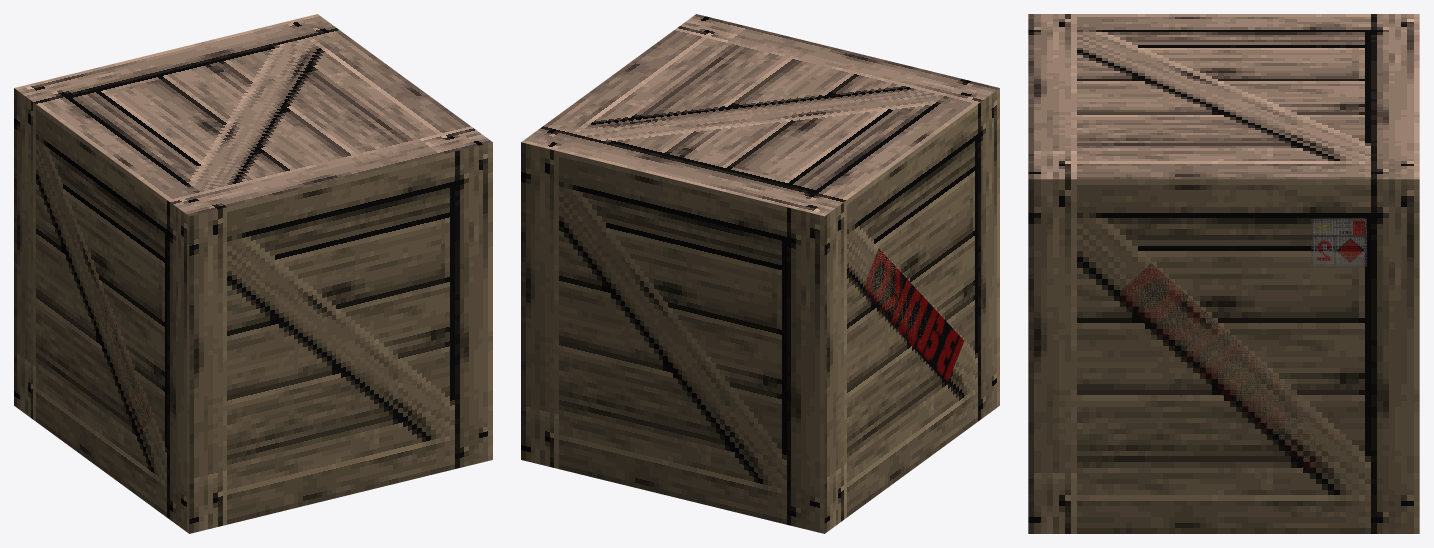
File: primary_064.glb
3 renders of one model, left to right at view 1: azimuth 30°, elevation 25°; view 2: azimuth 150°, elevation 25°; view 3: azimuth 270°, elevation 25°, orthographic. The views are drawn at different scales.
Visible parts, largest first — view 1: Object; view 2: Object; view 3: Object.
Boxes of the visible parts, x1,y1,x2,y2 form: Object: [14, 14, 492, 533]; Object: [521, 14, 999, 533]; Object: [1028, 14, 1419, 533].
Size of the model in its own units: 0.9501 by 0.9501 by 0.9501.
7 materials, 7 textured.
